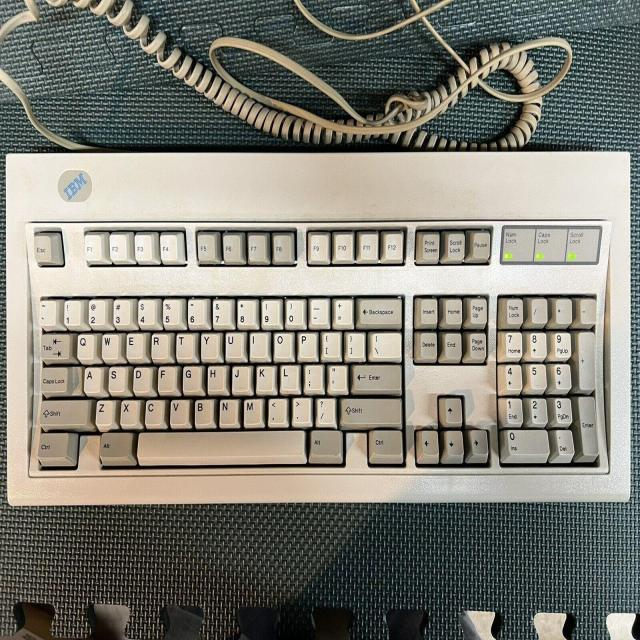keyboard: (3, 150, 631, 508)
